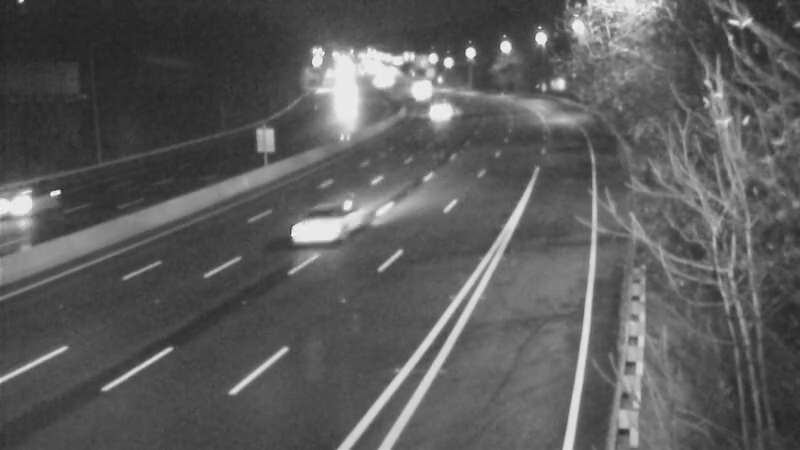vehicle: (288, 193, 368, 273), (1, 155, 78, 235), (412, 85, 462, 135)
